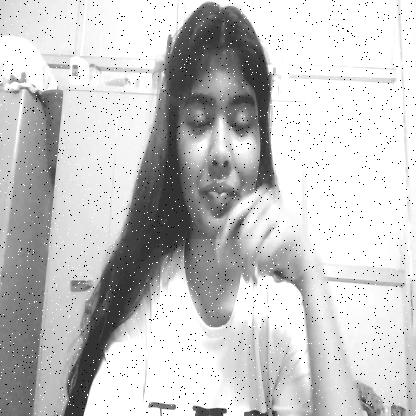Normal: (169, 3, 271, 239)
